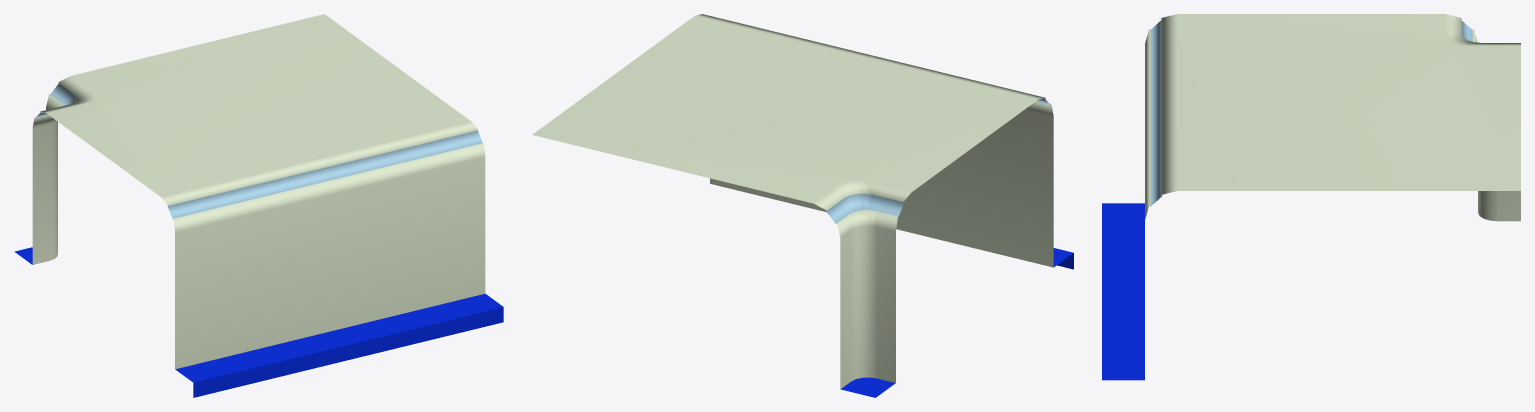
The model's file is Wall_Island_T_Singular.fbx.
3 renders of one model, left to right at view 1: azimuth 30°, elevation 25°; view 2: azimuth 150°, elevation 25°; view 3: azimuth 270°, elevation 25°, orthographic. The views are drawn at different scales.
Parts seen in each view (by area): view 1: Wall_Island_T_Singular; view 2: Wall_Island_T_Singular; view 3: Wall_Island_T_Singular.
Part boxes in pixels (box(x1,y1,x2,y2)): Wall_Island_T_Singular: box(14, 14, 503, 397); Wall_Island_T_Singular: box(532, 14, 1073, 397); Wall_Island_T_Singular: box(1102, 14, 1520, 380).
Size of the model in its own units: 100 by 54.53 by 100.
